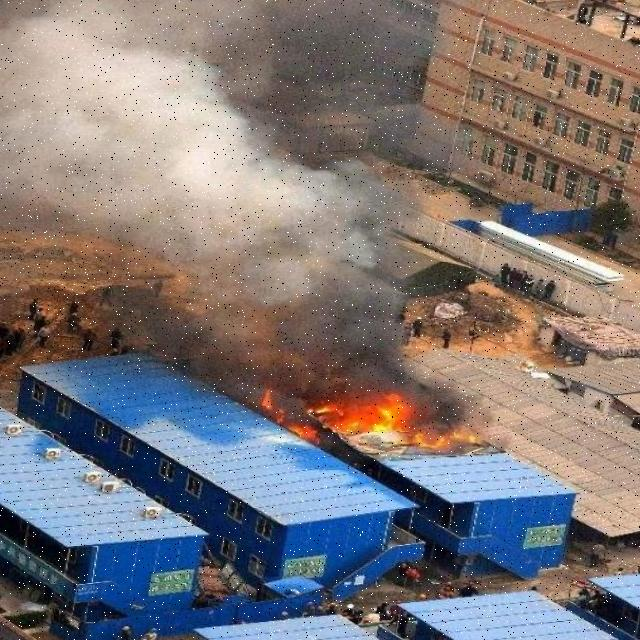fire: (271, 373, 499, 460)
smoke: (0, 0, 432, 364)
